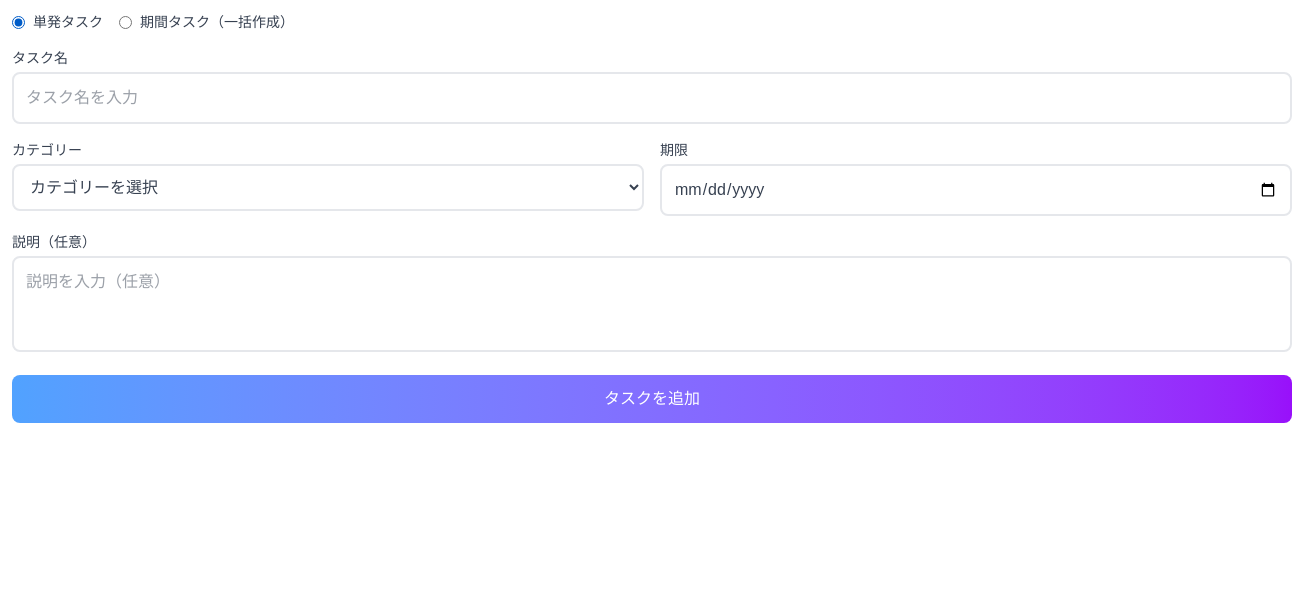
タスク作成機能 › 一括作成機能 › 期間タスクで必須項目が入力されていない場合にエラーが表示されること
# 期間タスクモードに切り替え
Click the radio button labelled "期間タスク（一括作成）".
click(126, 22)  # box left=119, top=16, right=132, bottom=28
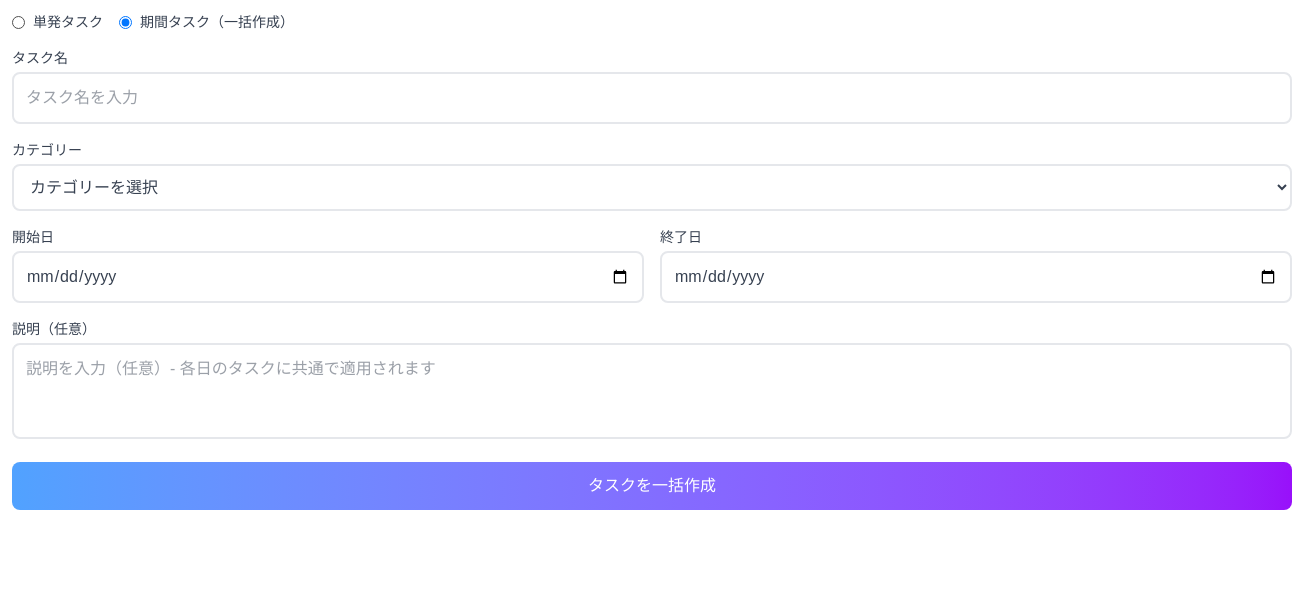
# タスク名のみ入力
Type "毎日の単語学習" into the field labelled "タスク名".
click(652, 98); type("毎日の単語学習")  # box left=12, top=72, right=1292, bottom=124
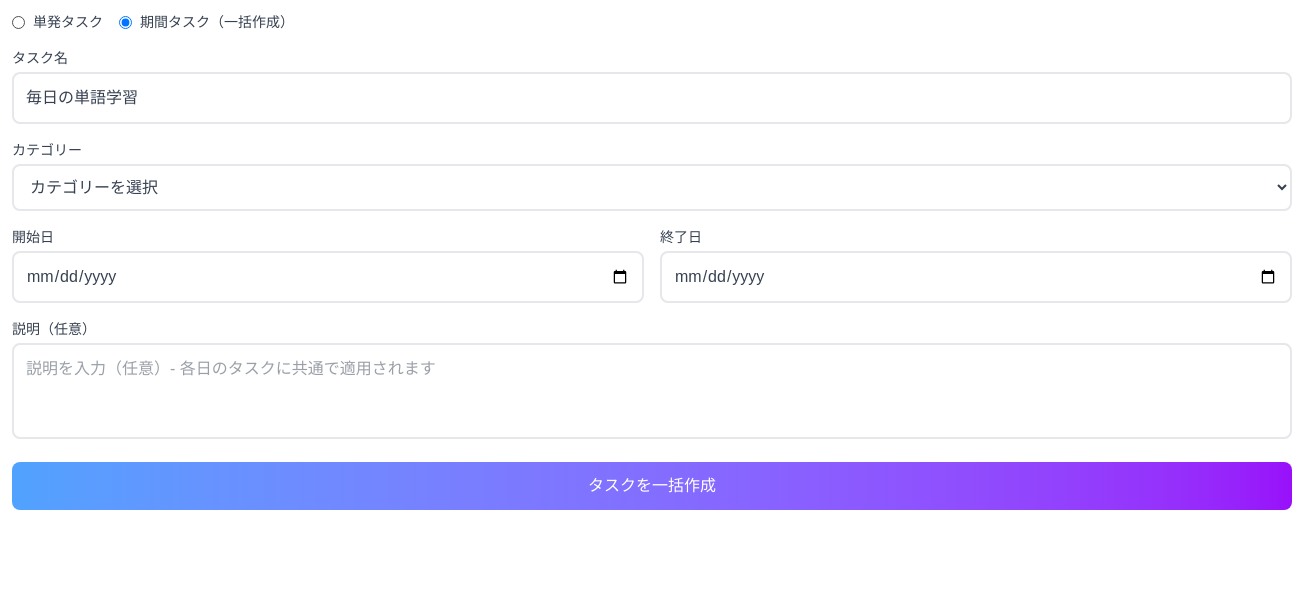
Click the button "タスクを一括作成".
click(652, 486)  # box left=12, top=462, right=1292, bottom=510
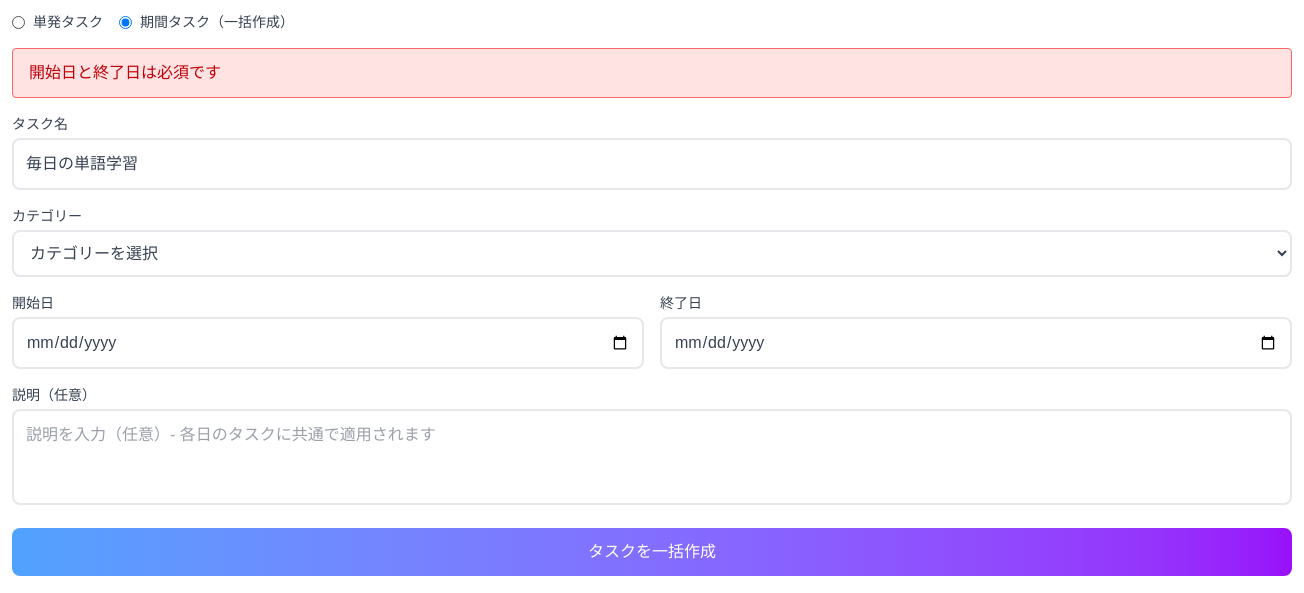
Result: the message reads "開始日と終了日は必須です" at left=29, top=64, right=221, bottom=81
